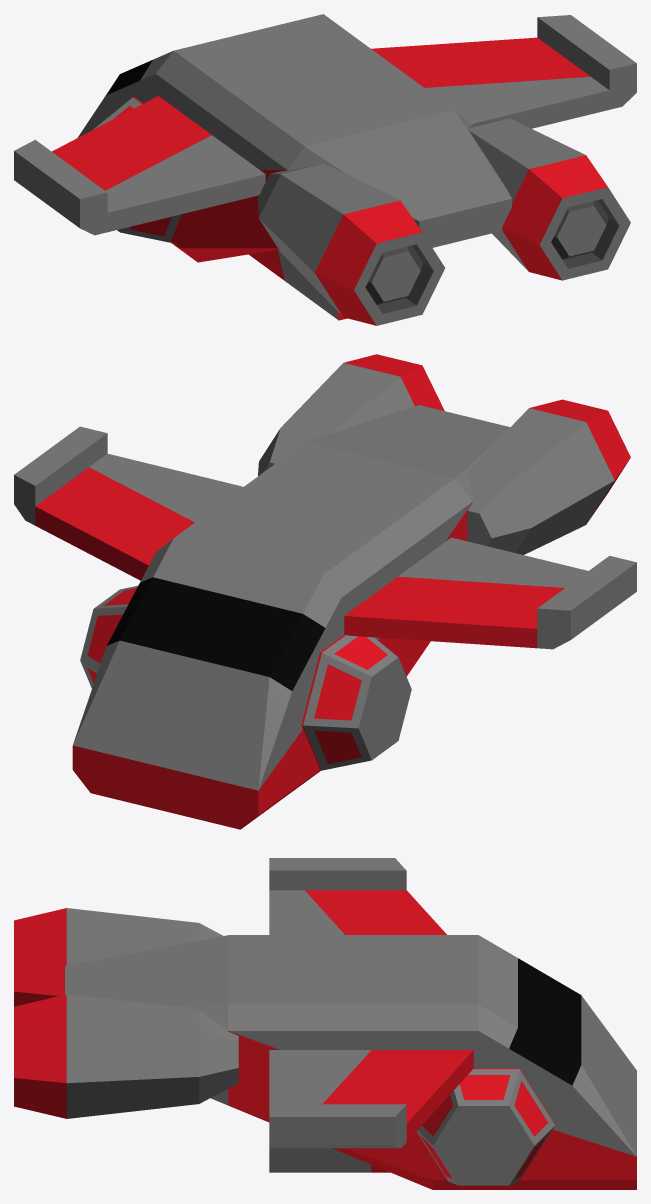
Rendered from drone.fbx.
3 renders of one model, top to bottom at view 1: azimuth 30°, elevation 25°; view 2: azimuth 150°, elevation 25°; view 3: azimuth 270°, elevation 25°, orthographic. The views are drawn at different scales.
Parts seen in each view (by area): view 1: plane_end_0, wind_endLow_11, engine_airplane%_8, wind_endLow_12, engine_airplane%_13, plane_tailPoint%_2, plane_cockpitBlock%_1, engine_barrelTop_10, glass_ufo%_7; view 2: plane_cockpitBlock%_1, plane_end_0, wind_endLow_11, wind_endLow_12, engine_airplane%_8, glass_ufo%_7, engine_airplane%_13, plane_tailPoint%_2, glass_ufo%_6; view 3: plane_cockpitBlock%_1, plane_end_0, engine_airplane%_13, wind_endLow_12, wind_endLow_11, glass_ufo%_6, engine_airplane%_8, plane_tailPoint%_2, engine_barrelTop_10.
Boxes of the visible parts, x1,y1,x2,y2 form: plane_end_0: (180, 32, 454, 262); wind_endLow_11: (14, 96, 265, 235); engine_airplane%_8: (257, 164, 444, 325); wind_endLow_12: (371, 15, 636, 128); engine_airplane%_13: (468, 118, 630, 280); plane_tailPoint%_2: (287, 110, 511, 247); plane_cockpitBlock%_1: (77, 14, 347, 260); engine_barrelTop_10: (249, 249, 347, 320); glass_ufo%_7: (93, 97, 183, 242); plane_cockpitBlock%_1: (72, 520, 365, 829); plane_end_0: (198, 442, 472, 676); wind_endLow_11: (344, 537, 636, 649); wind_endLow_12: (14, 426, 243, 580); engine_airplane%_8: (467, 399, 630, 554); glass_ufo%_7: (301, 634, 411, 770); engine_airplane%_13: (258, 354, 444, 475); plane_tailPoint%_2: (306, 405, 510, 501); glass_ufo%_6: (80, 586, 137, 688); plane_cockpitBlock%_1: (432, 935, 636, 1189); plane_end_0: (228, 935, 432, 1189); engine_airplane%_13: (14, 994, 238, 1118); wind_endLow_12: (269, 1050, 473, 1148); wind_endLow_11: (269, 858, 446, 934); glass_ufo%_6: (416, 1068, 555, 1185); engine_airplane%_8: (14, 908, 222, 1006); plane_tailPoint%_2: (65, 935, 228, 1105); engine_barrelTop_10: (269, 1148, 389, 1172).
Bounding box in the file's own units: 30 × 10.75 × 30.5.
